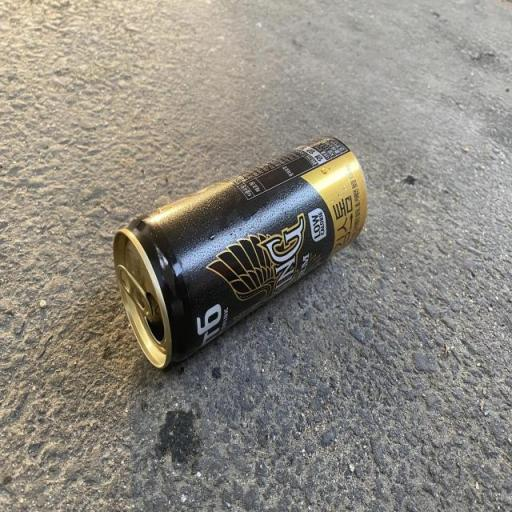metal: (102, 108, 374, 418)
